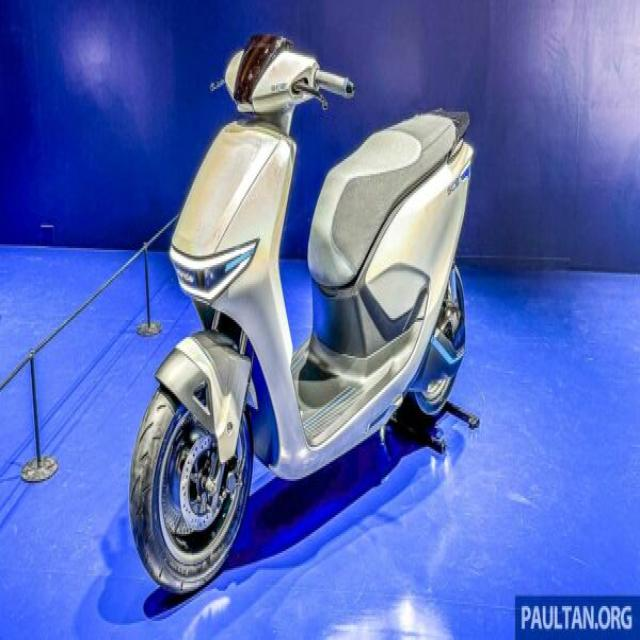motorcycle: (130, 36, 474, 592)
